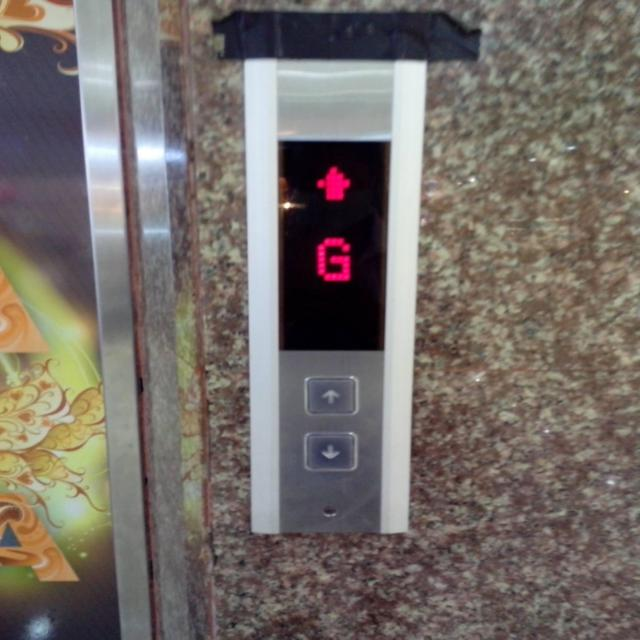down: (301, 428, 361, 476)
led: (271, 134, 394, 353)
up: (300, 372, 361, 419)
